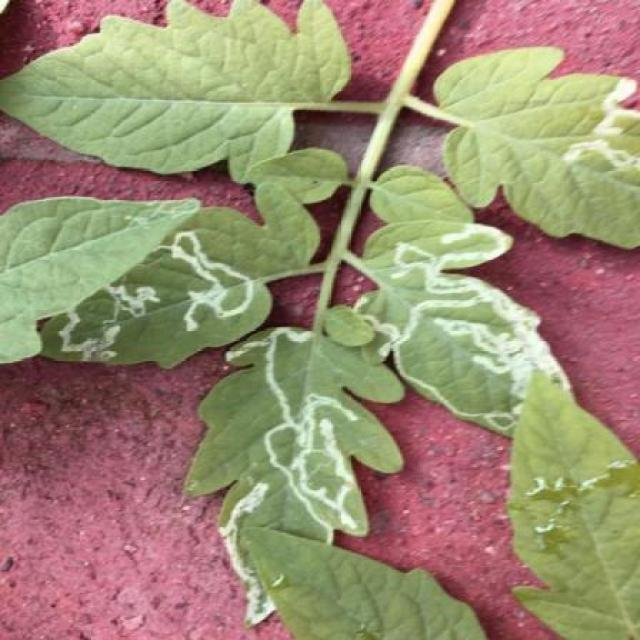Healthy: (0, 0, 353, 189)
Leaf Miner: (186, 324, 404, 624), (45, 179, 321, 370), (359, 224, 572, 434), (430, 45, 640, 252)
